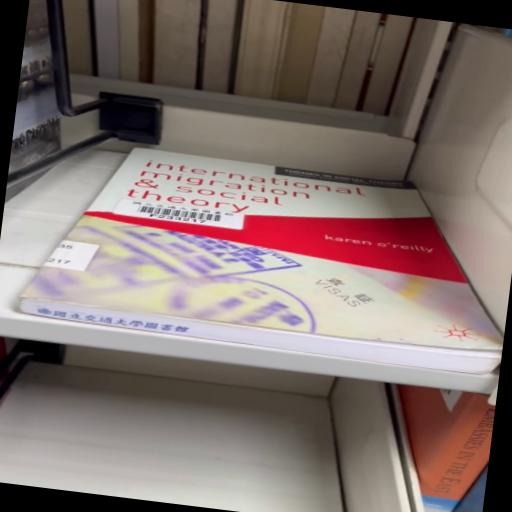flat: (18, 150, 504, 372)
